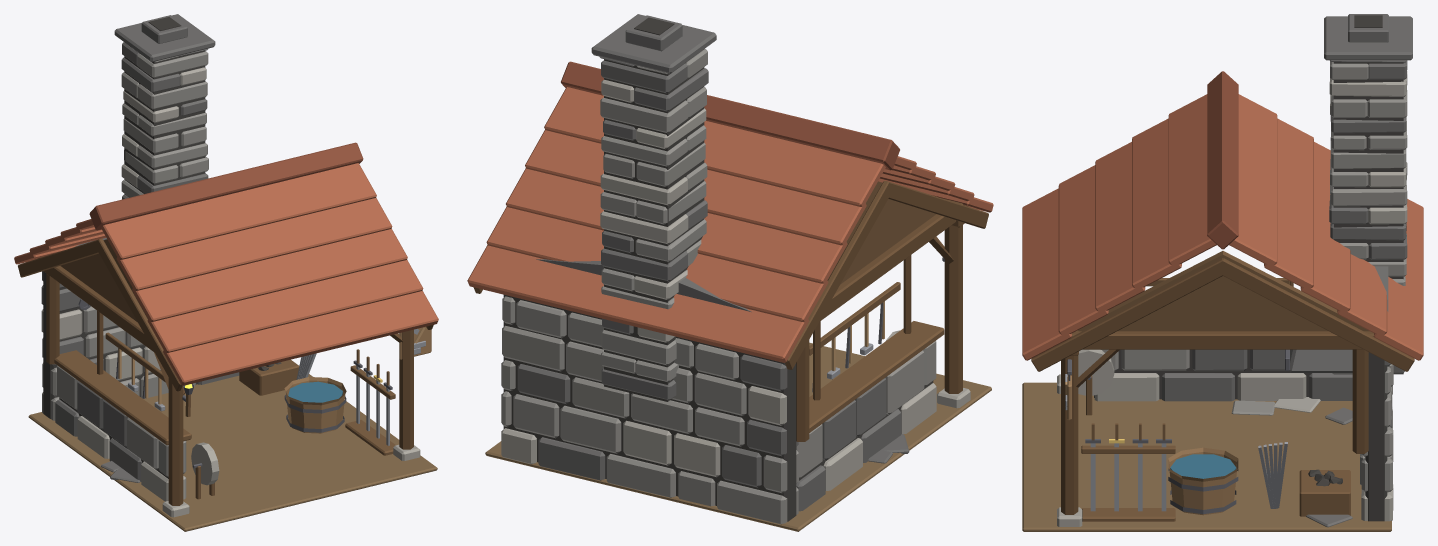
Rendered from shop_smithy.glb.
The picture shows the model from 3 angles, left to right: view 1: azimuth 30°, elevation 25°; view 2: azimuth 150°, elevation 25°; view 3: azimuth 270°, elevation 25°; orthographic projection. The views are drawn at different scales.
Parts seen in each view (by area): view 1: Smithy; view 2: Smithy; view 3: Smithy.
Boxes of the visible parts, left/top/right/bottom form: Smithy: left=14, top=14, right=438, bottom=531; Smithy: left=467, top=14, right=993, bottom=531; Smithy: left=1022, top=14, right=1423, bottom=531.
Bounding box in the file's own units: 4.72 × 6.15 × 5.1.
